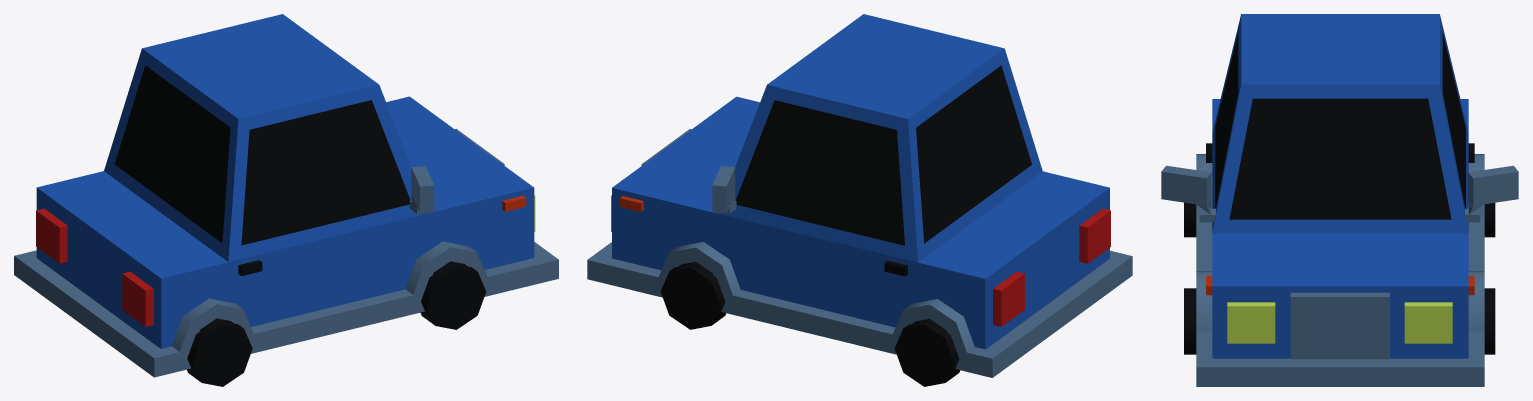
The model's file is Car3.fbx.
The picture shows the model from 3 angles, left to right: view 1: azimuth 30°, elevation 25°; view 2: azimuth 150°, elevation 25°; view 3: azimuth 270°, elevation 25°; orthographic projection. The views are drawn at different scales.
Visible parts, largest first — view 1: Car3; view 2: Car3; view 3: Car3.
Part boxes in pixels (box(x1,y1,x2,y2)): Car3: box(14, 14, 558, 386); Car3: box(587, 14, 1132, 386); Car3: box(1161, 14, 1518, 386).
Size of the model in its own units: 19.06 by 10.67 by 14.16.
